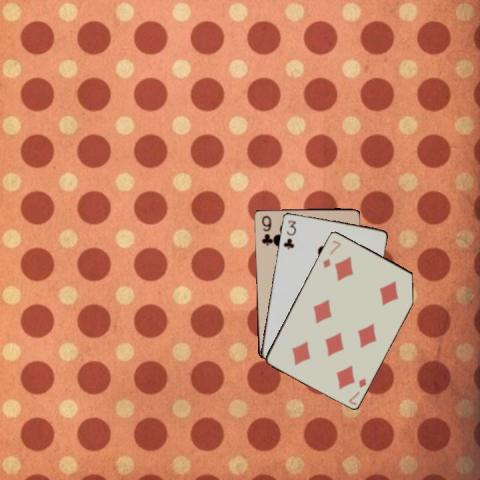3c: (280, 216, 297, 250)
7d: (345, 375, 368, 406), (320, 237, 342, 269)
9c: (259, 213, 271, 246)
